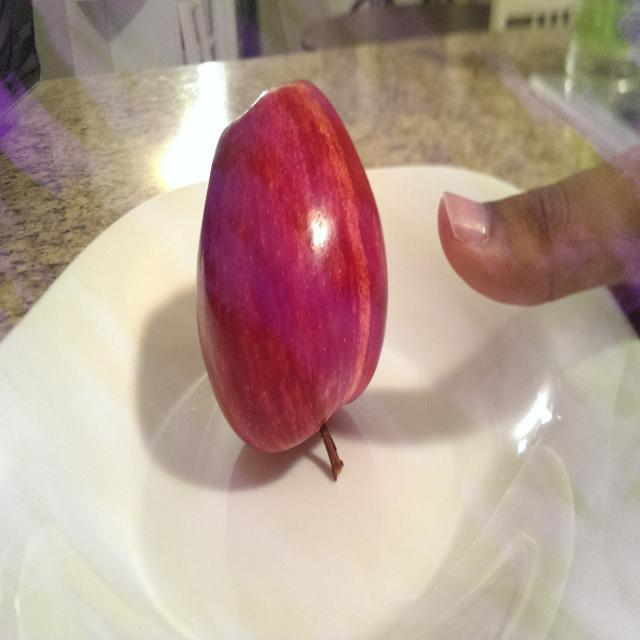Apple: (187, 70, 395, 492)
Finger: (432, 159, 584, 313)
